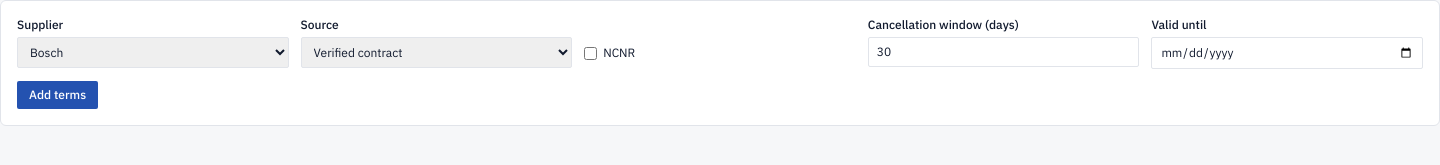
Test: SupplierTermsForm › shows clear success feedback after saving terms (Phase 6A: previously gave no feedback at all)
Click the button "Add terms" at (58, 95), box [17, 81, 98, 109]
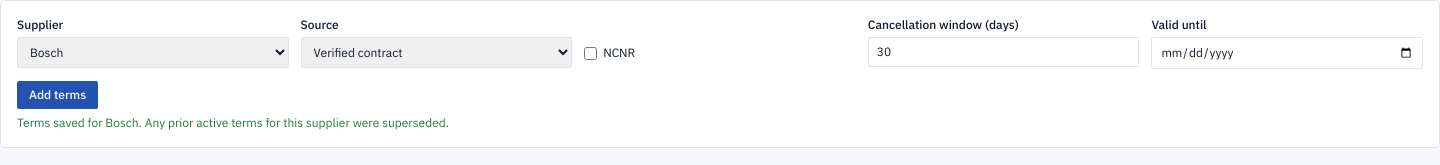
Expected: the text "Terms saved for Bosch" is shown, [17, 115, 449, 130]
